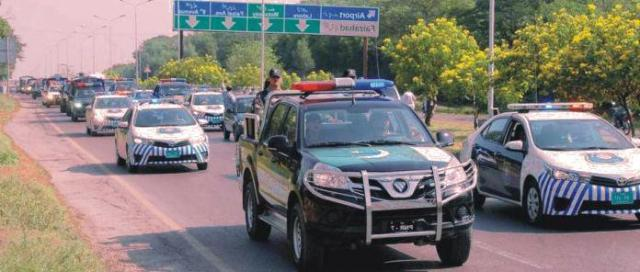police_car: (238, 79, 475, 267), (462, 102, 640, 225), (117, 97, 211, 171), (86, 90, 134, 137), (63, 75, 109, 121), (151, 76, 192, 104)
